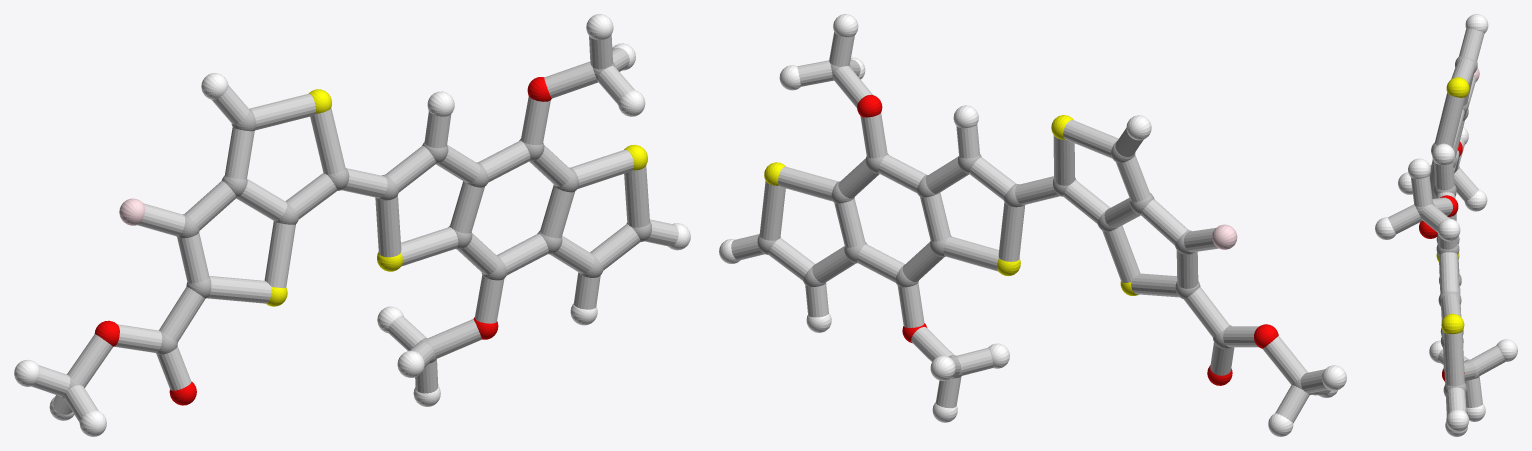
The model's file is Dimethoxy_Benzodithiophene_Phi_15_Theta_10_Methylcarbonyl_3_Fluoro_Thienothiophene.glb.
3 views of the same model, side by side, from view 1: azimuth 30°, elevation 25°; view 2: azimuth 150°, elevation 25°; view 3: azimuth 270°, elevation 25° (orthographic). The views are drawn at different scales.
Parts seen in each view (by area): view 1: grp15205, grp8689, grp1, grp13395, grp7241; view 2: grp15205, grp8689, grp1, grp13395, grp7241; view 3: grp15205, grp8689, grp1, grp7241, grp13395.
Boxes of the visible parts, x1=… form: grp15205: x1=32, y1=35, x2=678, y2=422; grp8689: x1=14, y1=14, x2=690, y2=436; grp1: x1=61, y1=61, x2=651, y2=399; grp13395: x1=94, y1=77, x2=551, y2=405; grp7241: x1=266, y1=89, x2=647, y2=306; grp15205: x1=731, y1=32, x2=1330, y2=423; grp8689: x1=719, y1=14, x2=1346, y2=436; grp1: x1=757, y1=64, x2=1312, y2=394; grp13395: x1=857, y1=94, x2=1278, y2=385; grp7241: x1=764, y1=115, x2=1138, y2=295; grp15205: x1=1388, y1=28, x2=1505, y2=416; grp8689: x1=1375, y1=14, x2=1517, y2=436; grp1: x1=1415, y1=56, x2=1479, y2=397; grp7241: x1=1436, y1=77, x2=1469, y2=333; grp13395: x1=1419, y1=141, x2=1464, y2=381.
Size of the model in its own units: 17.08 by 9.26 by 3.75.
